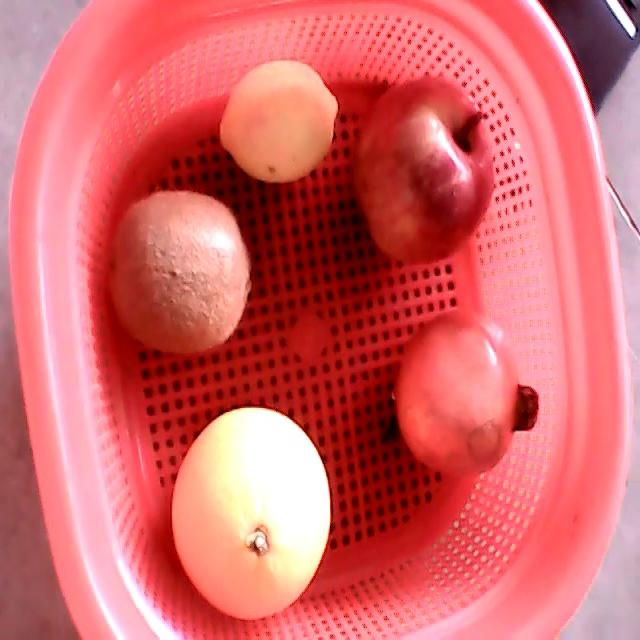apple: (350, 75, 497, 267)
kiwi: (105, 189, 251, 355)
lemon: (219, 62, 338, 183)
orange: (170, 407, 330, 621)
pomegranate: (393, 307, 540, 479)
